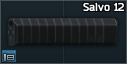SilencerCo Salvo 12 12ga sound suppressor: (0, 0, 127, 64)
